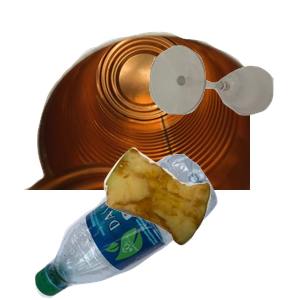glass: (147, 43, 300, 151)
metal: (21, 29, 261, 209)
plastic: (32, 154, 242, 300)
trash: (101, 145, 300, 300)
